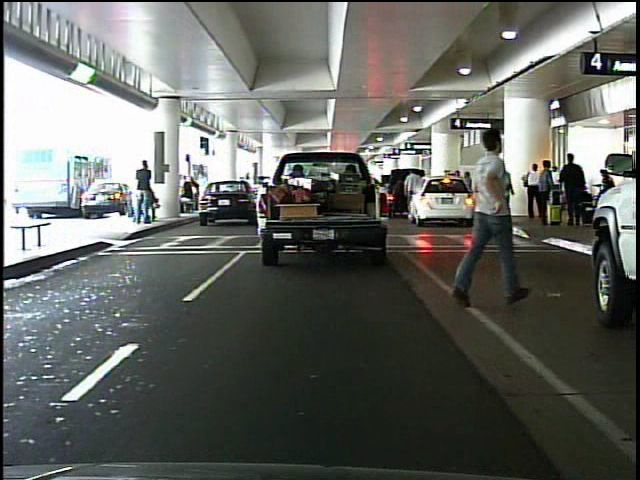person: (442, 119, 525, 325), (560, 143, 588, 230), (489, 157, 520, 228), (132, 158, 156, 226), (519, 156, 542, 222), (537, 158, 557, 225), (538, 152, 552, 228), (403, 166, 425, 193)
